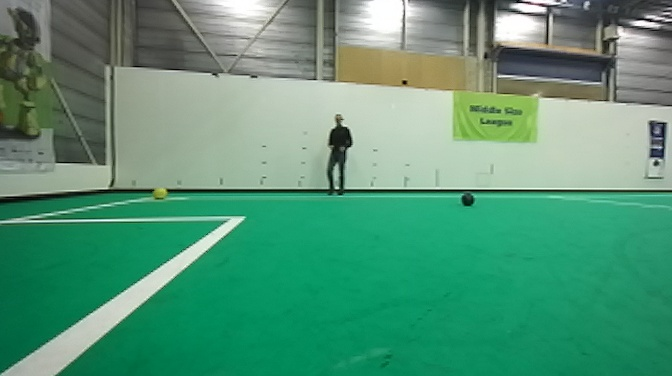ball: (459, 191, 480, 210), (152, 183, 169, 202)
human: (322, 109, 356, 200)
